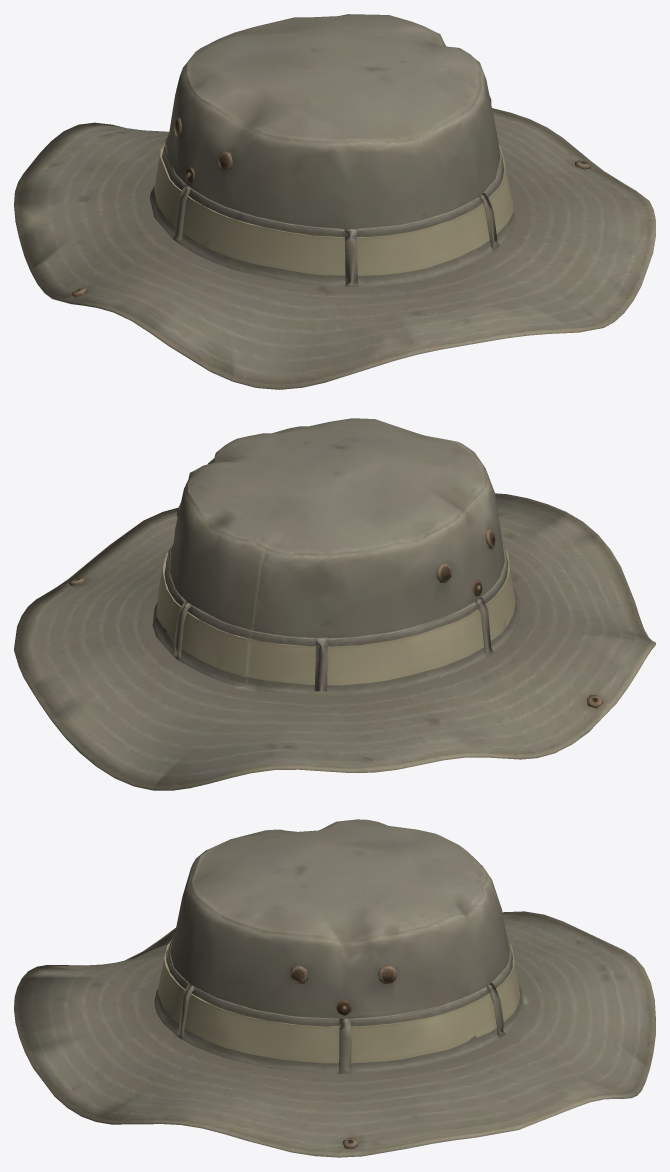
The model's file is fishermans_hat.glb.
3 renders of one model, top to bottom at view 1: azimuth 30°, elevation 25°; view 2: azimuth 150°, elevation 25°; view 3: azimuth 270°, elevation 25°, orthographic. The views are drawn at different scales.
Visible parts, largest first — view 1: fishermans_hat; view 2: fishermans_hat; view 3: fishermans_hat.
Boxes of the visible parts, box(x1,y1,x2,y2) form: fishermans_hat: box(14, 14, 655, 389); fishermans_hat: box(14, 418, 655, 790); fishermans_hat: box(14, 819, 655, 1157).
Bounding box in the file's own units: 0.3236 × 0.124 × 0.3498.
1 material, 1 textured.
